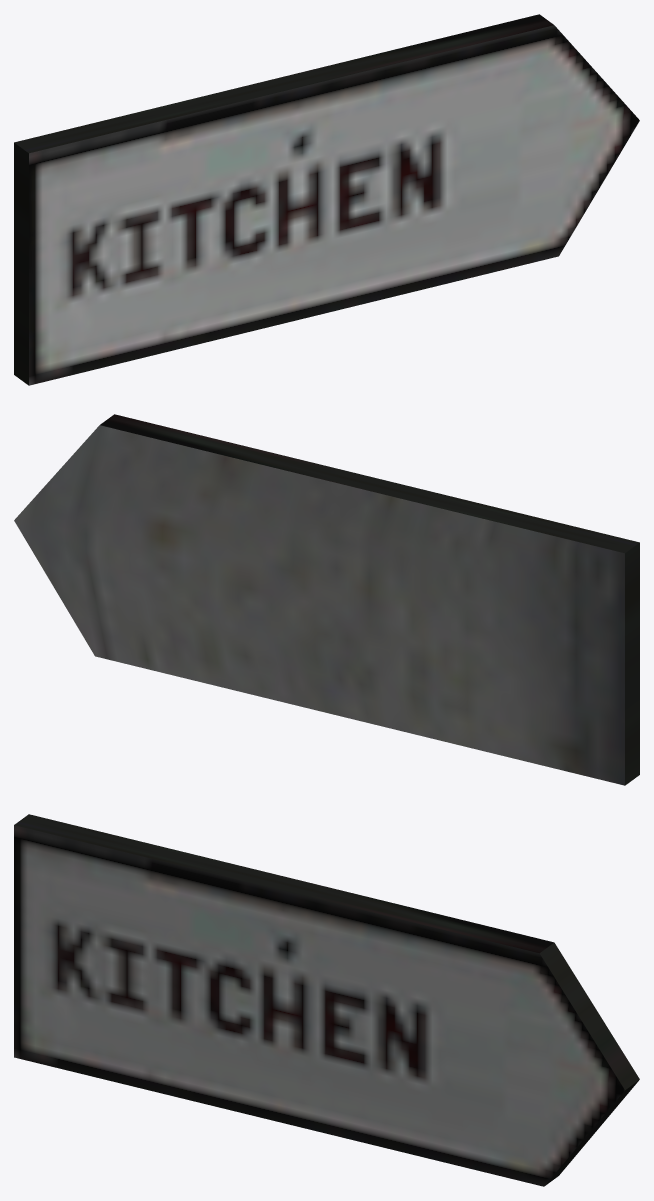
File: Training_Sign13.fbx
3 renders of one model, top to bottom at view 1: azimuth 30°, elevation 25°; view 2: azimuth 150°, elevation 25°; view 3: azimuth 330°, elevation 25°, orthographic.
Visible parts, largest first — view 1: tabula; view 2: tabula; view 3: tabula.
Part boxes in pixels (x1=…): tabula: x1=14, y1=14, x2=639, y2=385; tabula: x1=14, y1=414, x2=639, y2=785; tabula: x1=14, y1=814, x2=639, y2=1186.
Bounding box in the file's own units: 47.39 × 17.22 × 2.
